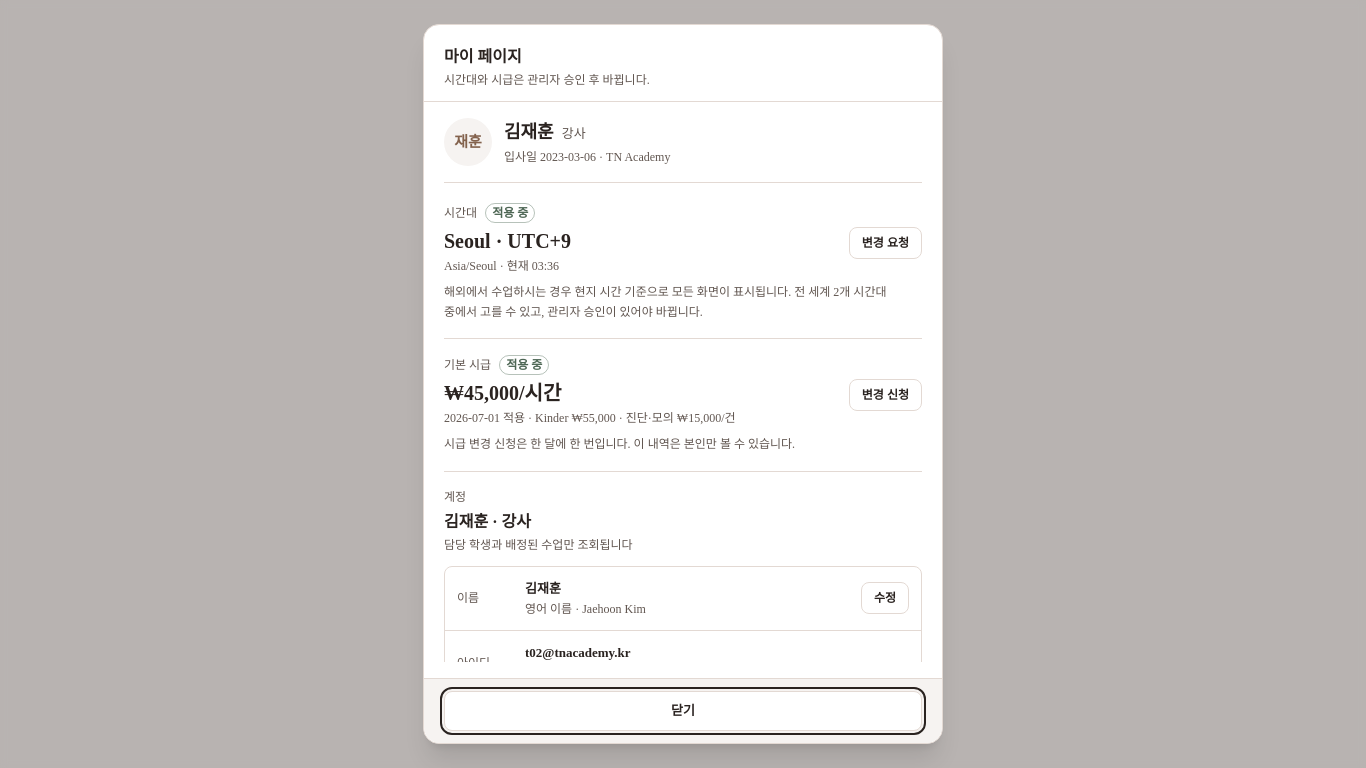
it: 계정 절 — 이름 · 영어 이름 (D5) › 한 번에 패널 하나 — 이름 패널이 열리면 나머지 단추는 잠긴다
Check: the button "변경 요청" is shown, box [849,227,922,259]
Click the button with aria-label "이름 수정" at (885, 598), box [861,582,909,614]
(page scrolled)
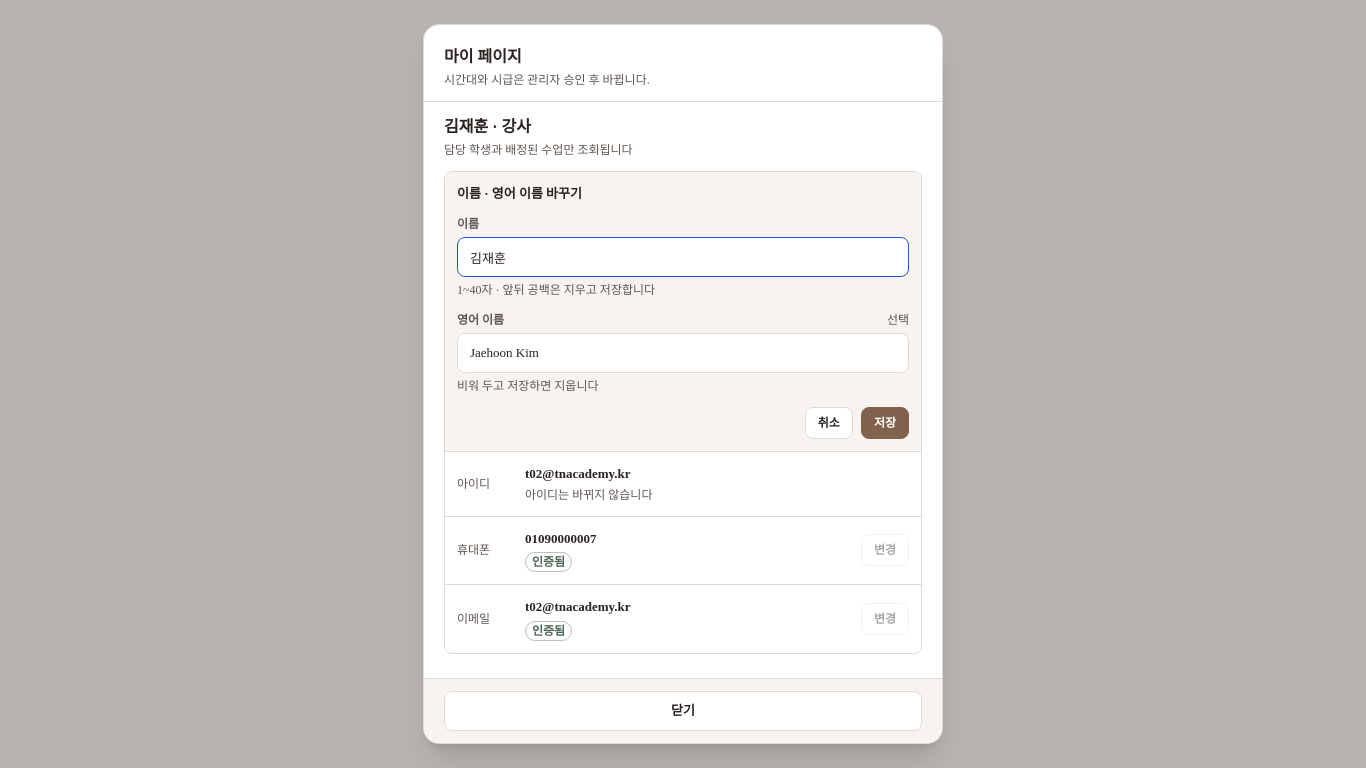
Check: the button with aria-label "휴대폰 변경" is disabled, box [861,534,909,566]
Check: the element "이름 · 영어 이름 바꾸기" is shown, box [445,172,921,452]
Click the button "취소" at (829, 423), box [805,407,853,439]
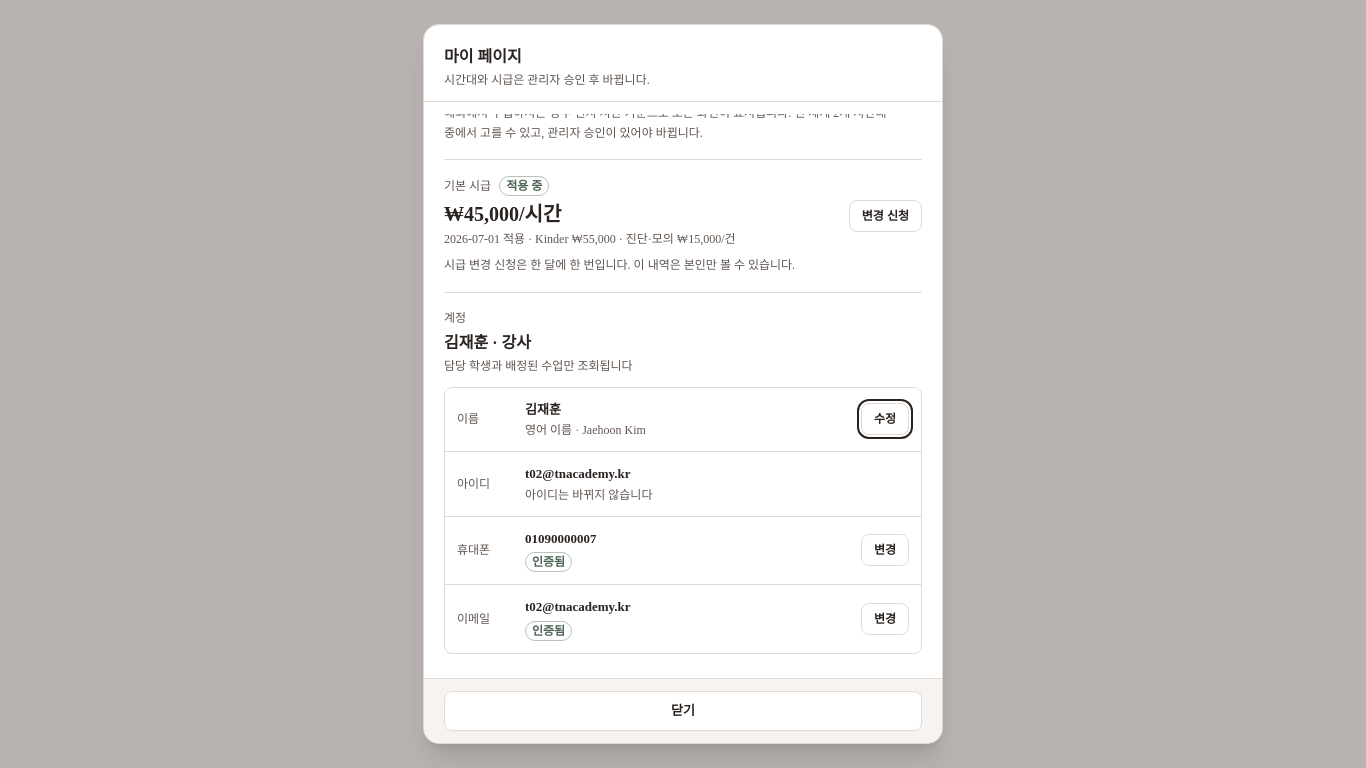
Check: the heading "이름 · 영어 이름 바꾸기" is gone
Check: the button with aria-label "휴대폰 변경" is enabled, box [861,534,909,566]
